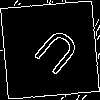U: (25, 25, 83, 85)
